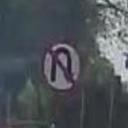NoVirarU: (43, 40, 83, 93)
